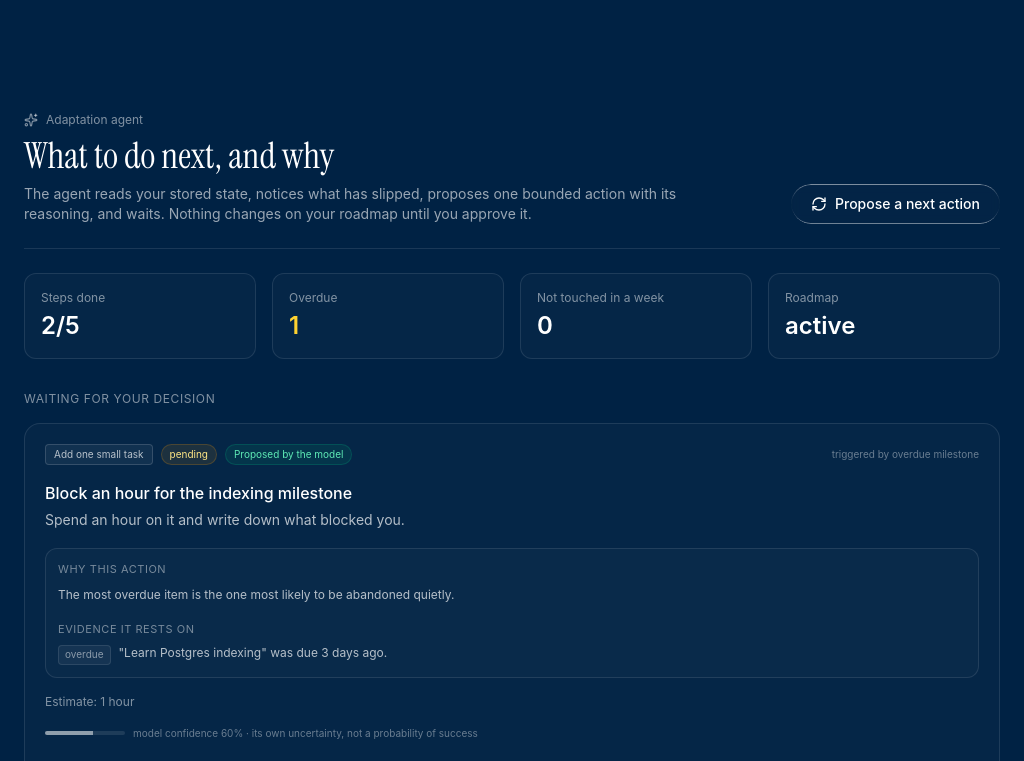
Test case: AgentPanel › surfaces a refusal with a retry and says nothing on the roadmap changed
Expected: the heading "Block an hour for the indexing milestone" is shown, [45,483,352,503]
Click the button "Propose a next action".
click(896, 204)  # box [791,184,1000,224]
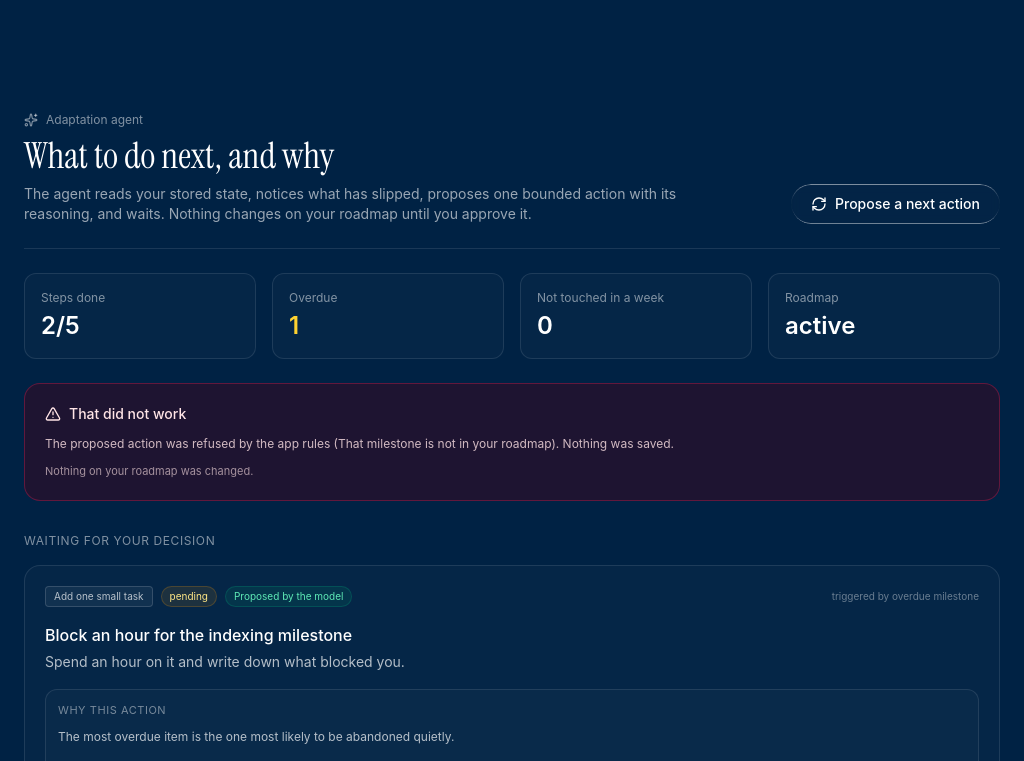
Expected: the text "That did not work" is shown, [69,404,186,424]
Expected: the text "refused by the app rules" is shown, [45,436,674,451]
Expected: the text "Nothing on your roadmap was changed." is shown, [45,464,253,480]
